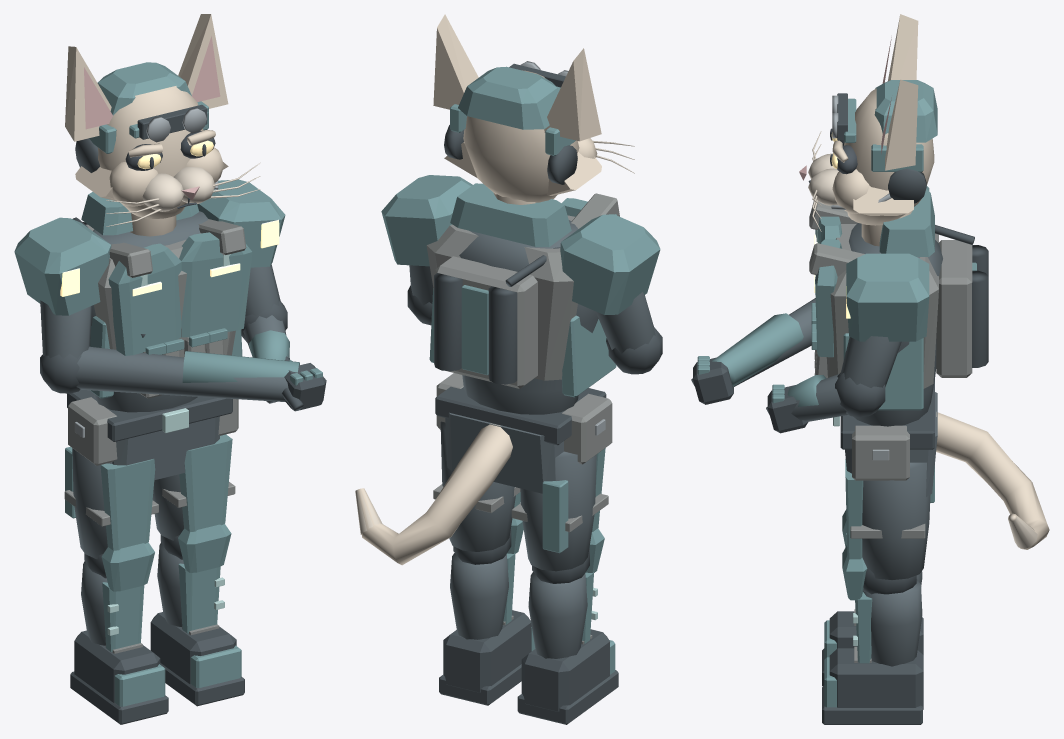
The model's file is cat_scout.glb.
3 renders of one model, left to right at view 1: azimuth 30°, elevation 25°; view 2: azimuth 150°, elevation 25°; view 3: azimuth 270°, elevation 25°, orthographic. The views are drawn at different scales.
Parts seen in each view (by area): view 1: shoulder_L_60, forearm_L_59, chest_plate_14, chest_plate_3, head_82, thigh_plate_29, thigh_plate_44, shoulder_R_71, pelvis_27, boot_35, torso_1, boot_50 (+44 smaller); view 2: shoulder_L_60, tail_117, head_82, carrier_2, torso_1, shoulder_R_71, thigh_28, neck_guard_81, helmet_crown_110, boot_35, boot_50, pelvis_27 (+30 smaller); view 3: shoulder_R_71, thigh_43, tail_117, backpack_119, boot_50, calf_48, forearm_guard_L_63, carrier_2, hip_pouch_23, head_82, rib_armor_18, neck_guard_81 (+31 smaller).
Part boxes in pixels (left/top/right/bottom): shoulder_L_60: left=14, top=217, right=111, bottom=315; forearm_L_59: left=75, top=346, right=288, bottom=401; chest_plate_14: left=179, top=232, right=252, bottom=337; chest_plate_3: left=108, top=243, right=181, bottom=355; head_82: left=97, top=86, right=203, bottom=218; thigh_plate_29: left=100, top=459, right=155, bottom=550; thigh_plate_44: left=179, top=434, right=232, bottom=531; shoulder_R_71: left=197, top=179, right=285, bottom=267; pelvis_27: left=112, top=416, right=219, bottom=480; boot_35: left=74, top=630, right=160, bottom=702; torso_1: left=91, top=211, right=208, bottom=412; boot_50: left=150, top=612, right=236, bottom=683; shoulder_L_60: left=560, top=214, right=660, bottom=314; tail_117: left=357, top=423, right=512, bottom=565; head_82: left=463, top=70, right=579, bottom=202; carrier_2: left=426, top=215, right=577, bottom=380; torso_1: left=459, top=220, right=598, bottom=414; shoulder_R_71: left=381, top=175, right=472, bottom=266; thigh_28: left=520, top=451, right=596, bottom=571; neck_guard_81: left=450, top=183, right=571, bottom=247; helmet_crown_110: left=458, top=66, right=558, bottom=129; boot_35: left=521, top=629, right=609, bottom=711; boot_50: left=443, top=610, right=531, bottom=692; pelvis_27: left=445, top=412, right=563, bottom=493; shoulder_R_71: left=846, top=253, right=929, bottom=341; thigh_43: left=862, top=462, right=930, bottom=579; tail_117: left=936, top=412, right=1049, bottom=549; backpack_119: left=936, top=240, right=972, bottom=377; boot_50: left=829, top=648, right=923, bottom=709; calf_48: left=863, top=579, right=922, bottom=666; forearm_guard_L_63: left=712, top=313, right=803, bottom=386; carrier_2: left=826, top=224, right=938, bottom=388; hip_pouch_23: left=852, top=425, right=909, bottom=480; head_82: left=844, top=88, right=934, bottom=225; rib_armor_18: left=843, top=333, right=923, bottom=410; neck_guard_81: left=879, top=189, right=934, bottom=256.
Size of the model in its own units: 1 by 2.59 by 1.29.
